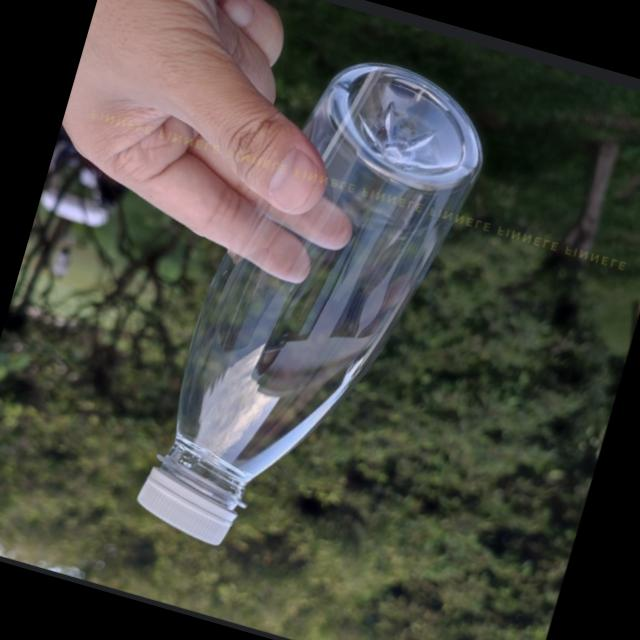BotolPlastik: (128, 29, 503, 590)
